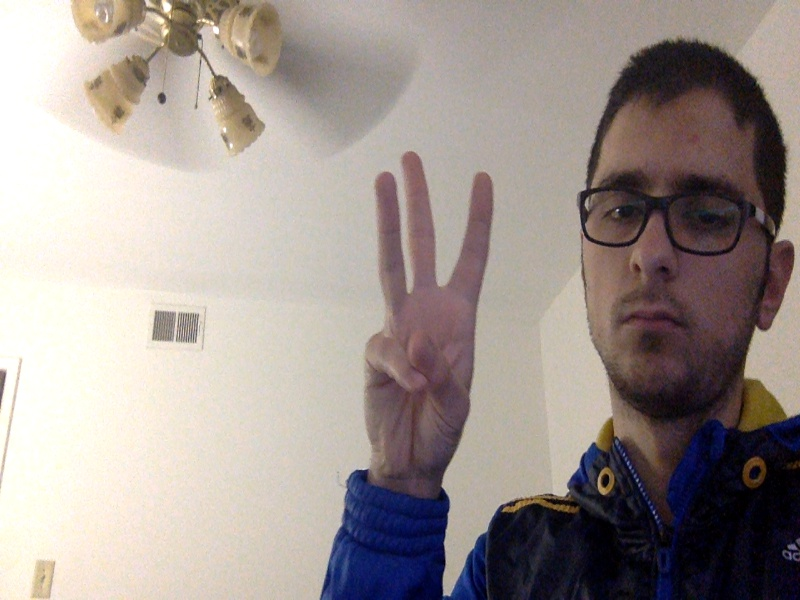3-hand: (363, 152, 497, 473)
